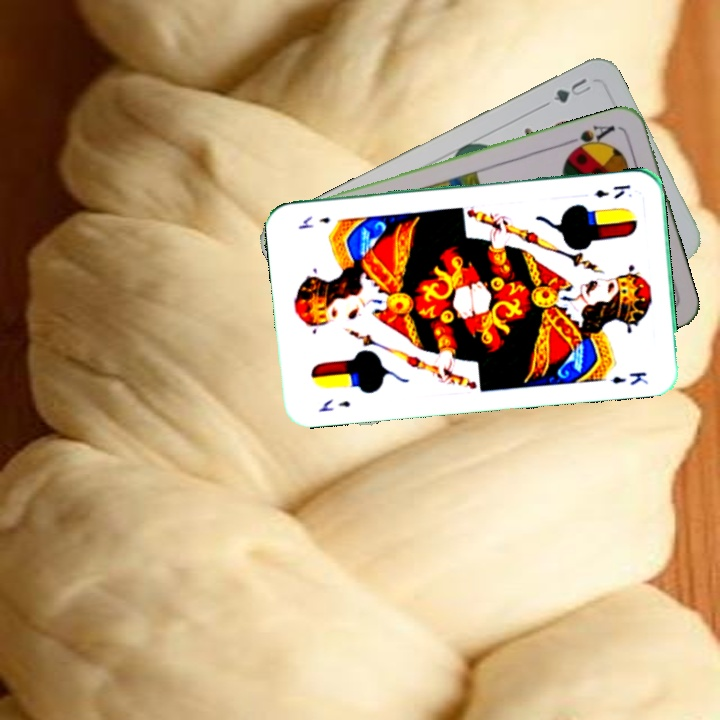EK: (590, 180, 633, 202), (314, 395, 353, 414)
GU: (549, 73, 596, 106)
SA: (563, 121, 618, 156)
